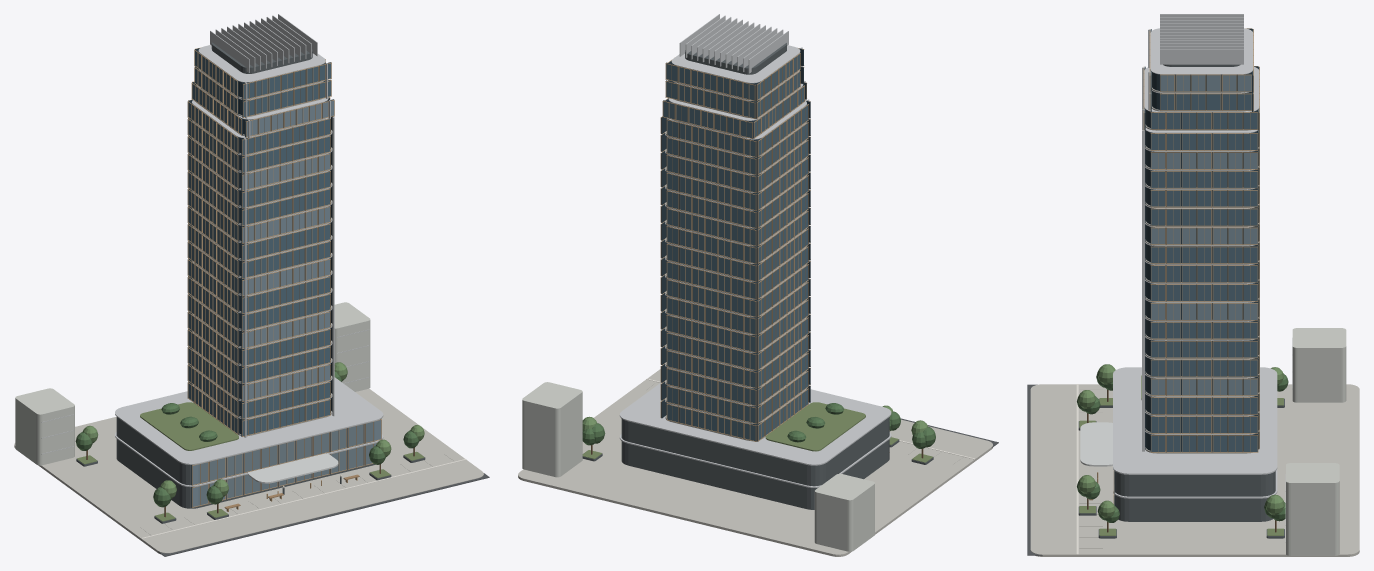
File: aba_concept.glb
3 views of the same model, side by side, from view 1: azimuth 30°, elevation 25°; view 2: azimuth 150°, elevation 25°; view 3: azimuth 270°, elevation 25° (orthographic). The views are drawn at different scales.
Visible parts, largest first — view 1: Site_Context_Paving, Podium_Structure_Dark_Stone, Site_Context_Context, Podium_Floor_02_Facade_Aluminium, OfficeA_Roof_Aluminium, Podium_Floor_02_Windows_Office_Glass_Light, Podium_Roof_Grass, OfficeA_Floor_11_Windows_Office_Glass, OfficeA_Floor_02_Windows_Office_Glass, OfficeA_Floor_13_Windows_Office_Glass, OfficeA_Floor_14_Windows_Office_Glass, OfficeA_Floor_04_Windows_Office_Glass (+52 smaller); view 2: Site_Context_Paving, Podium_Structure_Dark_Stone, Site_Context_Context, Podium_Floor_02_Facade_Aluminium, OfficeA_Roof_Aluminium, Podium_Roof_Grass, OfficeA_Floor_18_Windows_Office_Glass, OfficeA_Floor_08_Windows_Office_Glass, OfficeA_Floor_04_Windows_Office_Glass, OfficeA_Floor_09_Windows_Office_Glass, OfficeA_Floor_13_Windows_Office_Glass, OfficeA_Floor_16_Windows_Office_Glass (+38 smaller); view 3: Site_Context_Paving, Site_Context_Context, Podium_Floor_02_Facade_Aluminium, Podium_Structure_Dark_Stone, OfficeA_Roof_Aluminium, OfficeA_Floor_18_Windows_Office_Glass, OfficeA_Floor_05_Windows_Office_Glass, OfficeA_Floor_13_Windows_Office_Glass, OfficeA_Floor_07_Windows_Office_Glass, OfficeA_Floor_14_Windows_Office_Glass, OfficeA_Floor_15_Windows_Office_Glass, OfficeA_Floor_03_Windows_Office_Glass (+43 smaller).
Part boxes in pixels (box(x1,y1,x2,y2)): Site_Context_Paving: box(14, 388, 483, 554); Podium_Structure_Dark_Stone: box(116, 417, 374, 508); Site_Context_Context: box(15, 302, 370, 465); Podium_Floor_02_Facade_Aluminium: box(115, 377, 383, 464); OfficeA_Roof_Aluminium: box(210, 14, 317, 72); Podium_Floor_02_Windows_Office_Glass_Light: box(192, 420, 380, 484); Podium_Roof_Grass: box(140, 402, 238, 450); OfficeA_Floor_11_Windows_Office_Glass: box(188, 208, 329, 260); OfficeA_Floor_02_Windows_Office_Glass: box(188, 366, 329, 418); OfficeA_Floor_13_Windows_Office_Glass: box(188, 172, 329, 225); OfficeA_Floor_14_Windows_Office_Glass: box(188, 155, 329, 207); OfficeA_Floor_04_Windows_Office_Glass: box(188, 331, 329, 383); Site_Context_Paving: box(518, 369, 992, 556); Podium_Structure_Dark_Stone: box(621, 417, 889, 509); Site_Context_Context: box(522, 382, 874, 551); Podium_Floor_02_Facade_Aluminium: box(619, 382, 891, 465); OfficeA_Roof_Aluminium: box(679, 14, 788, 73); Podium_Roof_Grass: box(765, 402, 865, 451); OfficeA_Floor_18_Windows_Office_Glass: box(663, 87, 804, 138); OfficeA_Floor_08_Windows_Office_Glass: box(667, 265, 807, 316); OfficeA_Floor_04_Windows_Office_Glass: box(667, 336, 807, 387); OfficeA_Floor_09_Windows_Office_Glass: box(667, 247, 807, 298); OfficeA_Floor_13_Windows_Office_Glass: box(667, 176, 807, 227); OfficeA_Floor_16_Windows_Office_Glass: box(667, 123, 807, 174); Site_Context_Paving: box(1030, 384, 1359, 556); Site_Context_Context: box(1286, 328, 1346, 555); Podium_Floor_02_Facade_Aluminium: box(1113, 367, 1277, 474); Podium_Structure_Dark_Stone: box(1115, 471, 1275, 521); OfficeA_Roof_Aluminium: box(1160, 14, 1243, 64); OfficeA_Floor_18_Windows_Office_Glass: box(1151, 67, 1259, 129); OfficeA_Floor_05_Windows_Office_Glass: box(1151, 355, 1259, 376); OfficeA_Floor_13_Windows_Office_Glass: box(1151, 204, 1259, 225); OfficeA_Floor_07_Windows_Office_Glass: box(1151, 317, 1259, 338); OfficeA_Floor_14_Windows_Office_Glass: box(1151, 185, 1259, 206); OfficeA_Floor_15_Windows_Office_Glass: box(1151, 166, 1259, 187); OfficeA_Floor_03_Windows_Office_Glass: box(1151, 393, 1259, 414).
Bounding box in the file's own units: 61 × 73.8 × 49.5.
